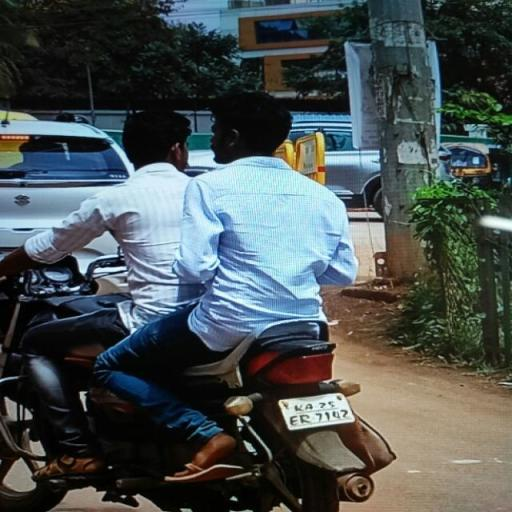bike: (2, 85, 408, 512)
numberplate: (275, 385, 356, 435)
withouthelmet: (214, 92, 289, 154), (122, 111, 188, 162)
